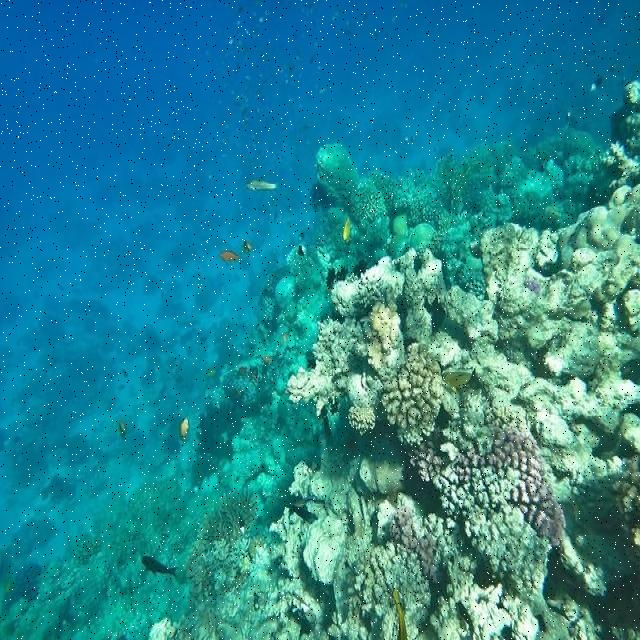fish: (142, 552, 179, 577), (442, 370, 473, 396), (393, 588, 408, 639), (246, 180, 280, 191), (219, 250, 242, 261), (342, 219, 352, 241), (180, 417, 189, 441)
reefs: (283, 184, 639, 638), (326, 342, 573, 639), (214, 456, 407, 639)
